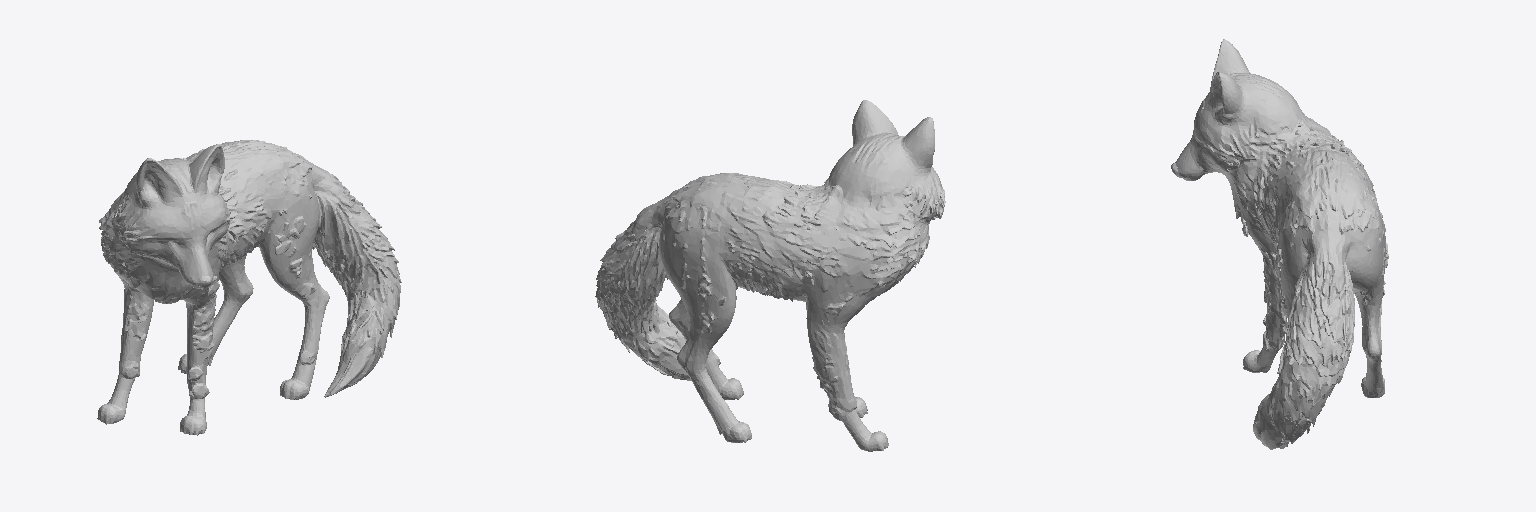
The model's file is test_solid_filled.obj.
The picture shows the model from 3 angles: view 1: azimuth 30°, elevation 25°; view 2: azimuth 150°, elevation 25°; view 3: azimuth 270°, elevation 25°; orthographic projection.
Size of the model in its own units: 1.99 by 1.85 by 1.21.